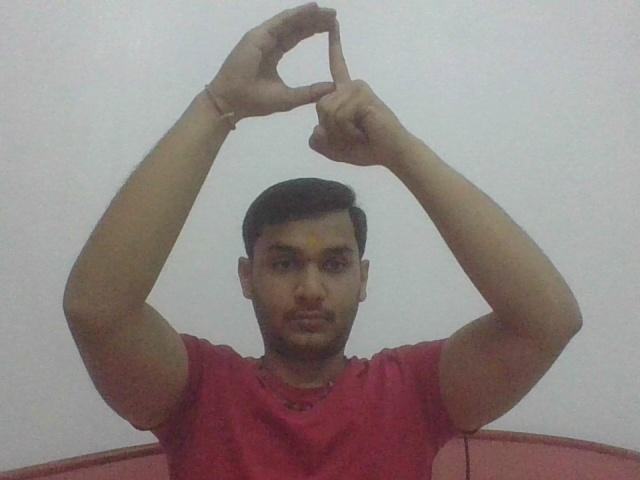D: (203, 1, 400, 167)
